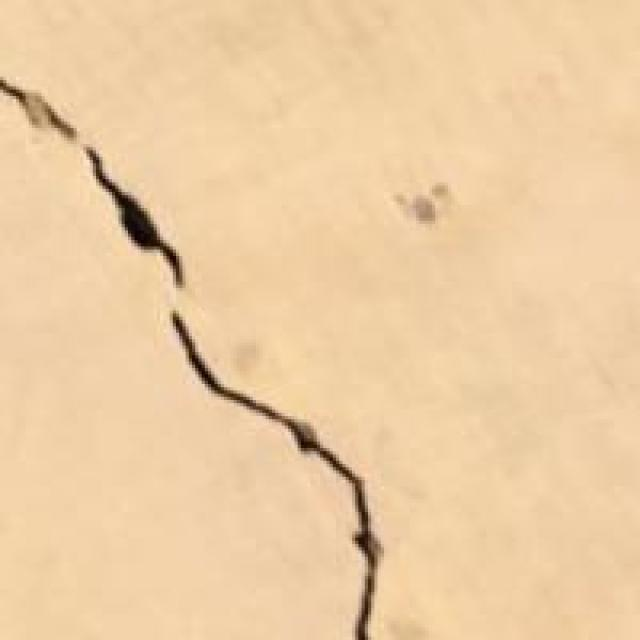crack: (0, 48, 429, 637)
